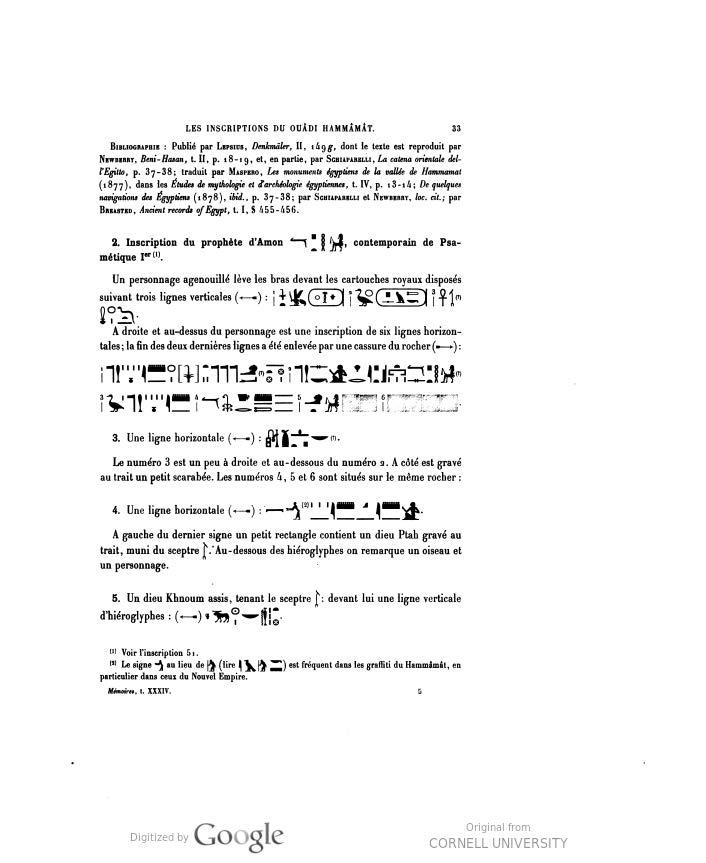circle: (368, 283, 432, 311), (306, 283, 349, 311)
